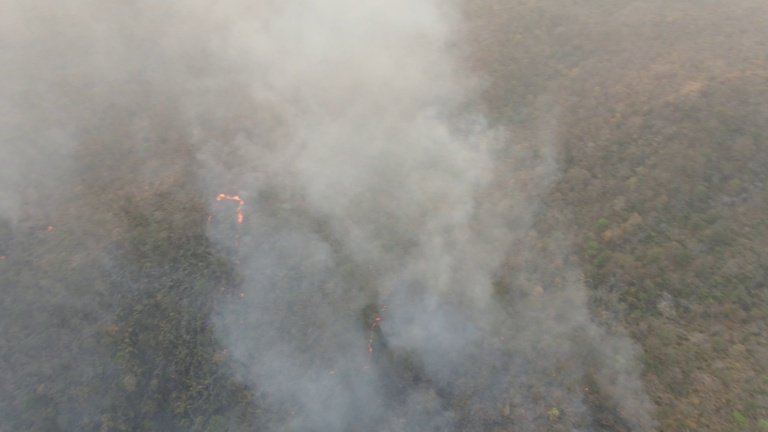fire: (204, 188, 251, 299), (362, 300, 385, 370), (43, 222, 56, 232)
smoke: (1, 1, 644, 430)
